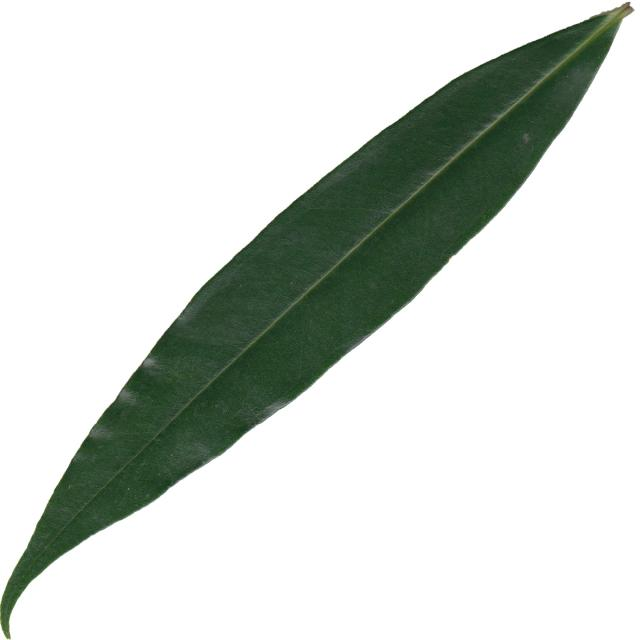Medicinal-Rose Apple: (1, 4, 640, 640), (2, 4, 640, 640)
